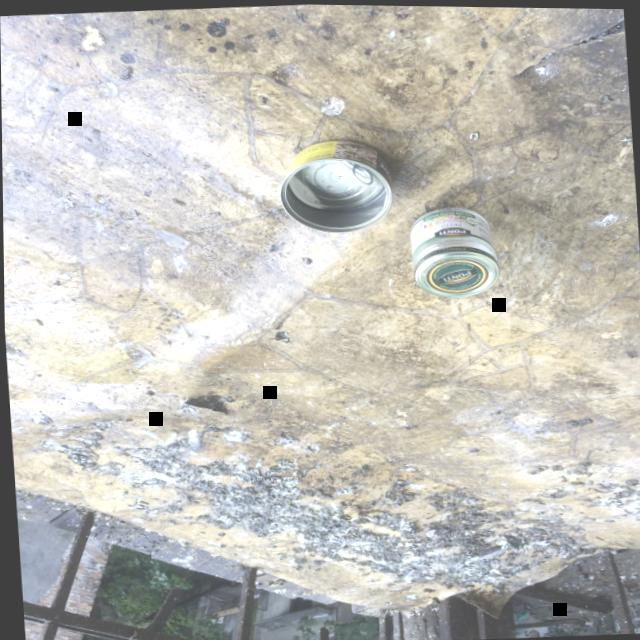Food Can: (279, 139, 392, 232)
Glass jar: (409, 206, 499, 296)
Metal lid: (413, 245, 498, 297)
Pop tab: (352, 163, 373, 184), (354, 167, 370, 182)
